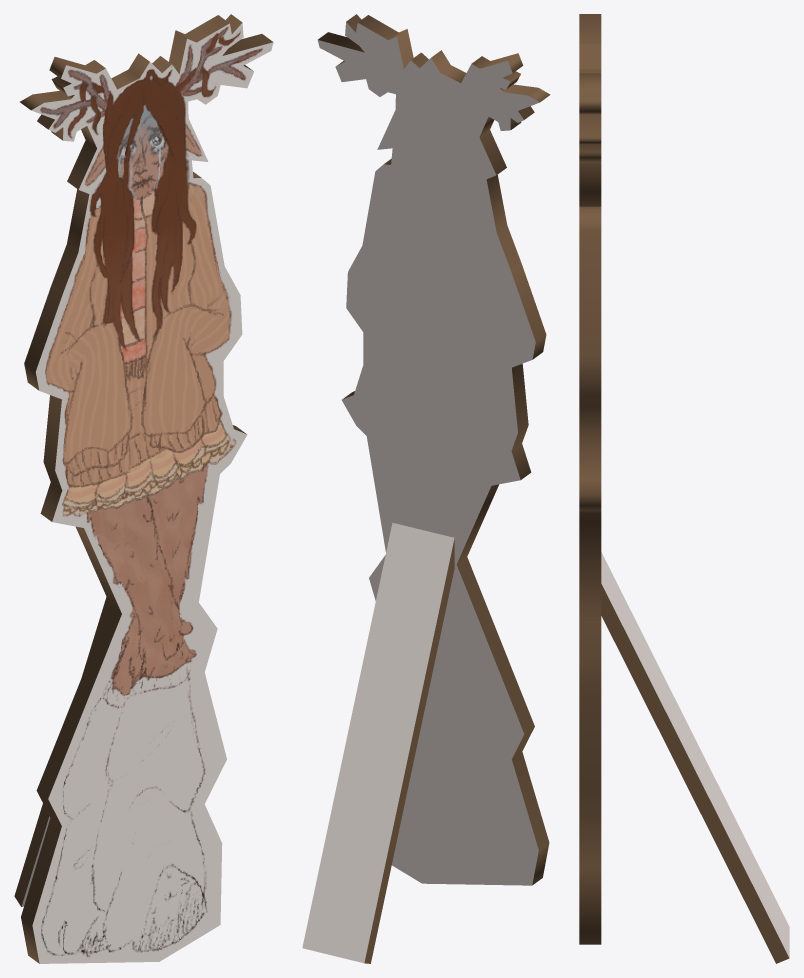
The model's file is Gullan_Sad.fbx.
The picture shows the model from 3 angles, left to right: view 1: azimuth 30°, elevation 25°; view 2: azimuth 150°, elevation 25°; view 3: azimuth 270°, elevation 25°; orthographic projection. The views are drawn at different scales.
Visible parts, largest first — view 1: Gullan_Sad; view 2: Gullan_Sad; view 3: Gullan_Sad.
Boxes of the visible parts, x1,y1,x2,y2 form: Gullan_Sad: (14,14,273,963); Gullan_Sad: (302,14,550,963); Gullan_Sad: (579,14,789,963).
Bounding box in the file's own units: 49.82 × 183 × 39.1.
1 material, 1 textured.
